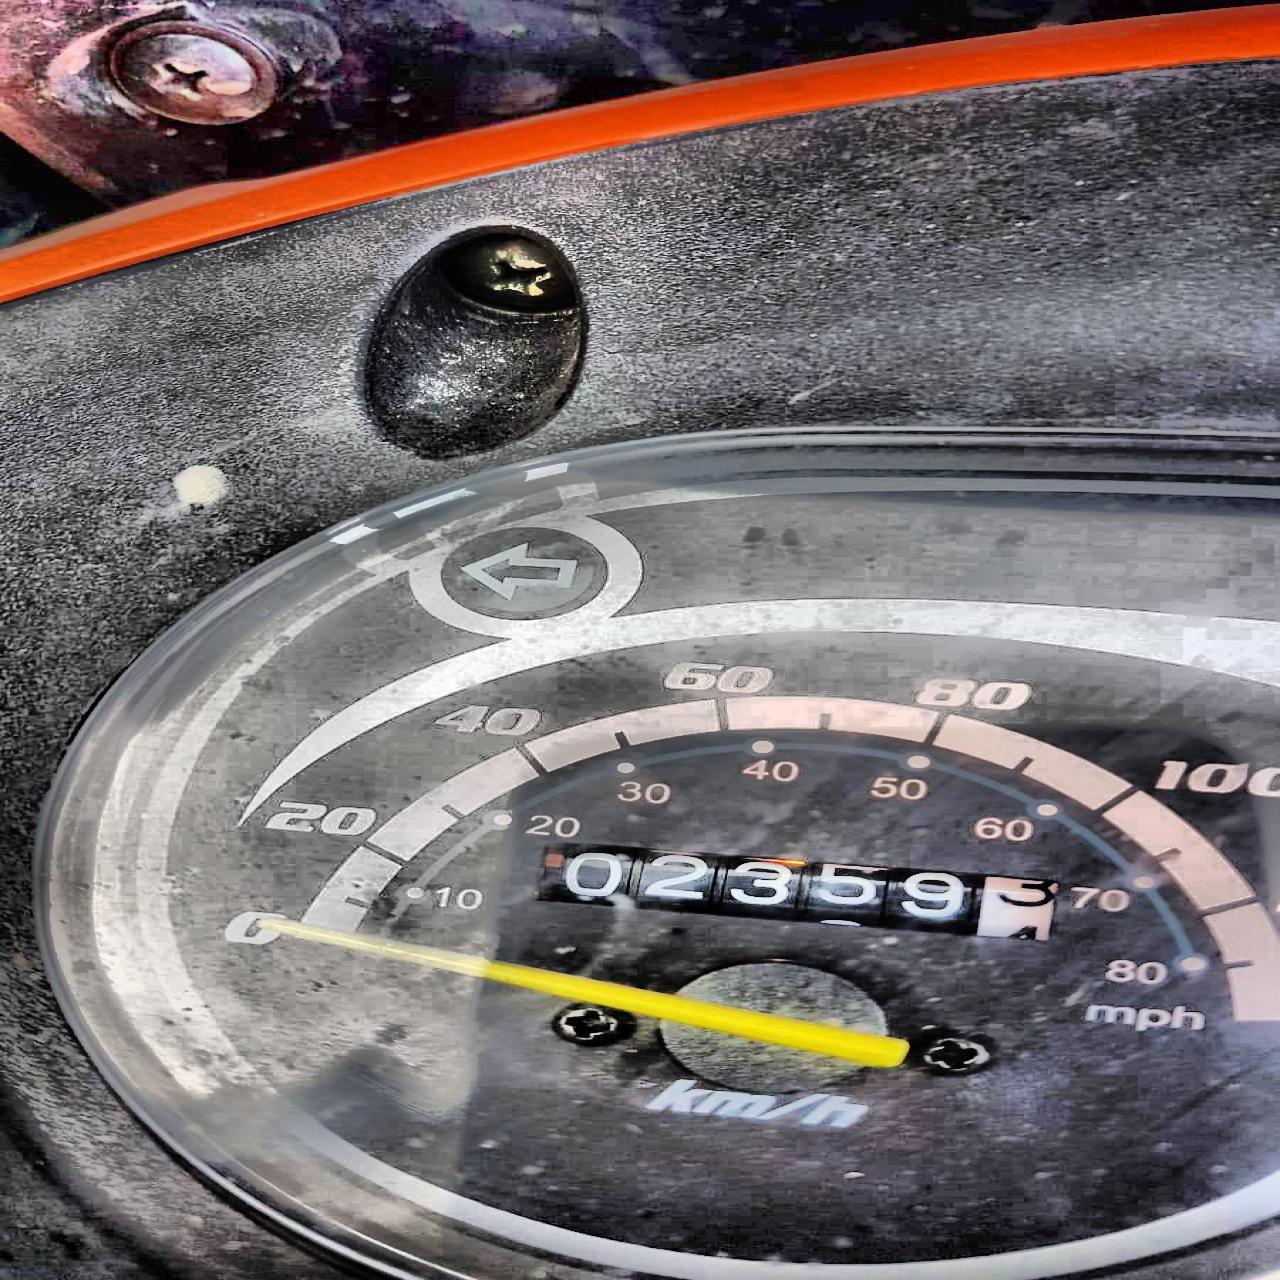0: (560, 849, 620, 898)
2: (641, 850, 710, 900)
3: (723, 858, 792, 906), (995, 870, 1056, 908)
5: (815, 862, 881, 906)
9: (899, 871, 965, 919)
odometer: (535, 836, 1073, 948)
